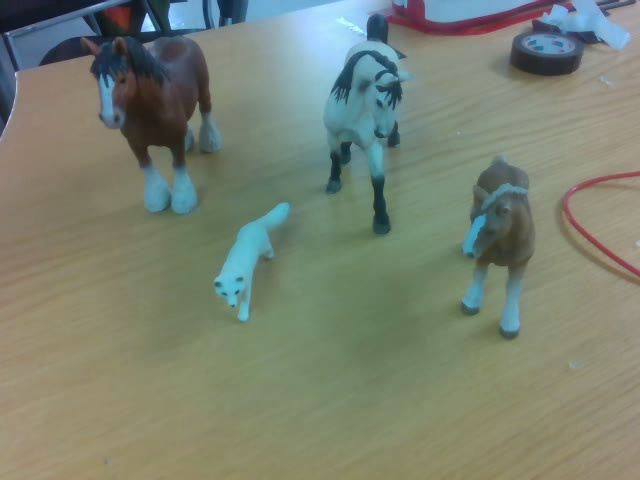toy: (80, 32, 219, 213), (325, 13, 413, 234), (460, 150, 536, 340), (214, 202, 289, 323)
